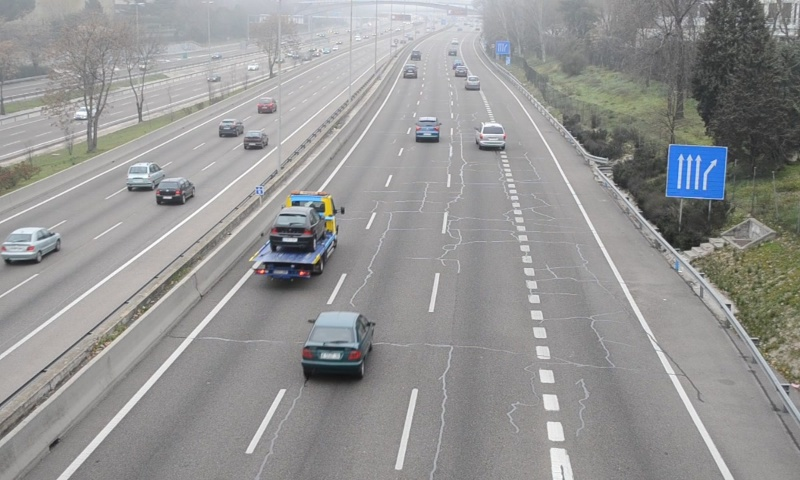car: (300, 312, 372, 370), (476, 122, 506, 149), (414, 116, 439, 141), (463, 74, 479, 92), (402, 63, 416, 78)
small-truck: (248, 192, 338, 278)
